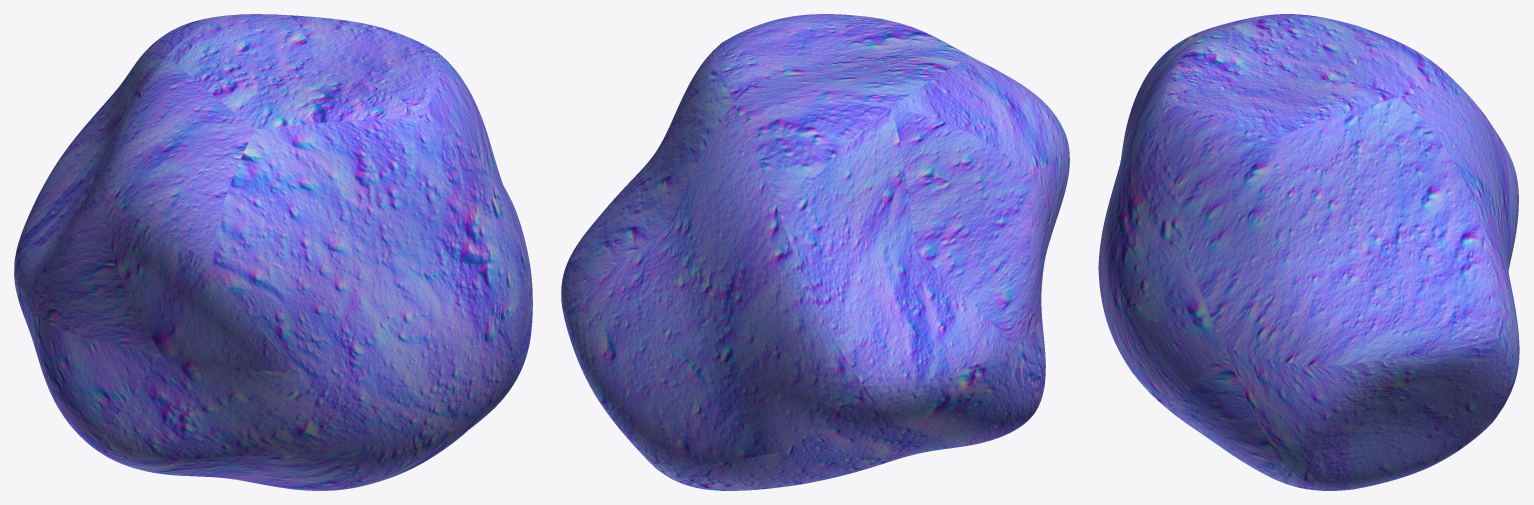
The model's file is bigasteroid5_LOD0.fbx.
3 renders of one model, left to right at view 1: azimuth 30°, elevation 25°; view 2: azimuth 150°, elevation 25°; view 3: azimuth 270°, elevation 25°, orthographic. The views are drawn at different scales.
Visible parts, largest first — view 1: Icosphere; view 2: Icosphere; view 3: Icosphere.
Boxes of the visible parts, bbox=[...] form: Icosphere: bbox=[14, 14, 532, 490]; Icosphere: bbox=[561, 14, 1069, 490]; Icosphere: bbox=[1098, 14, 1519, 490].
Bounding box in the file's own units: 244 × 222 × 219.
